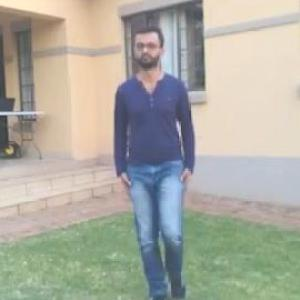follow: (110, 16, 196, 272)
